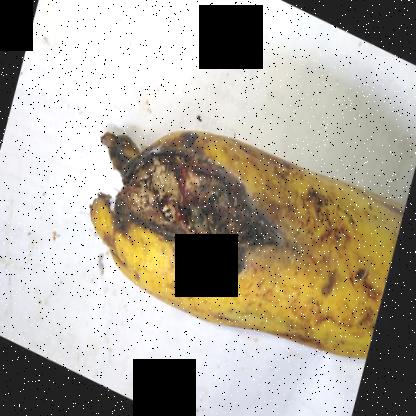ripe: (57, 109, 415, 376)
rotten: (78, 105, 271, 305)
